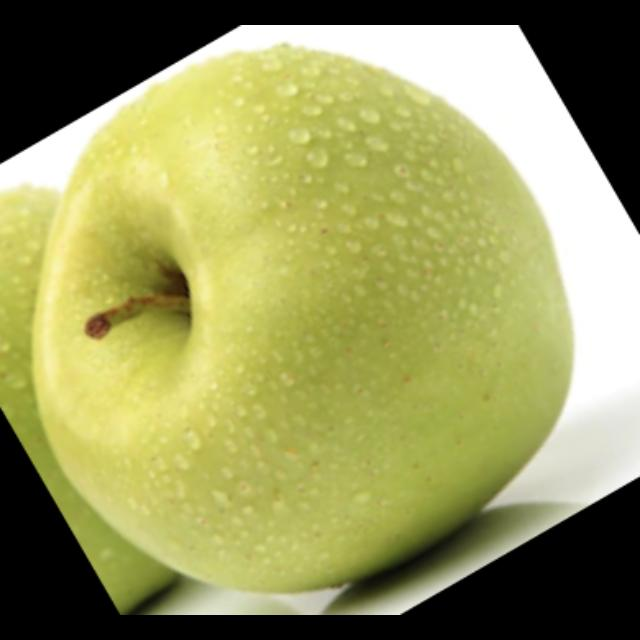Apel Segar: (34, 42, 570, 598)
